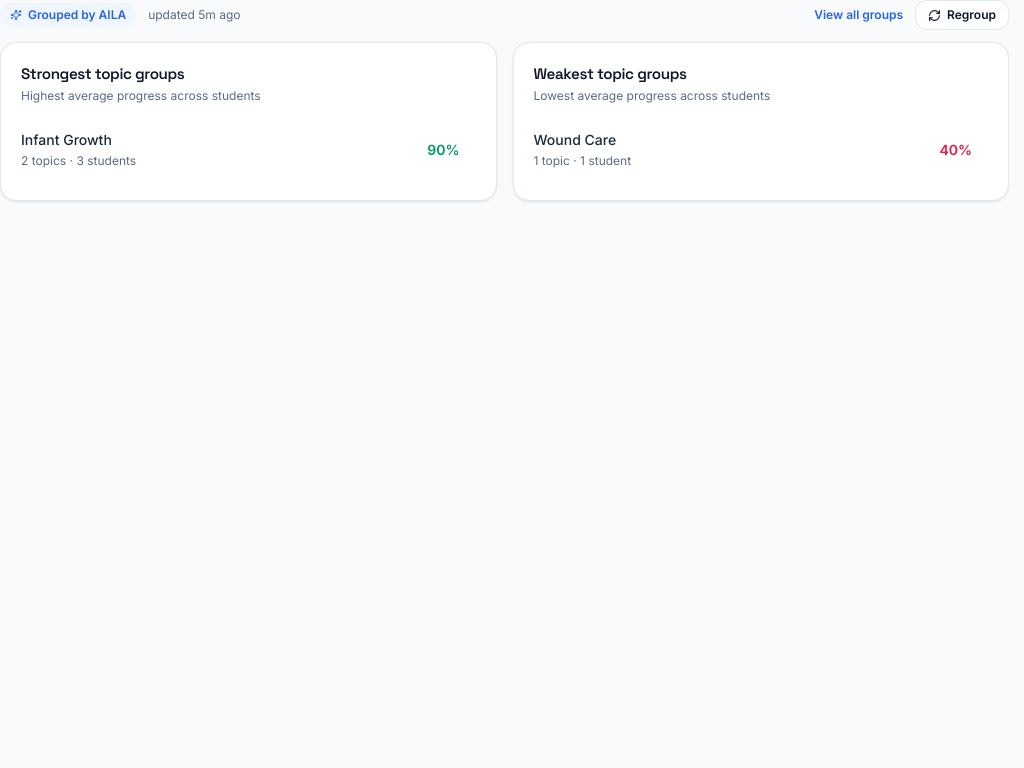
it: TopicGroupsSection › clicking a group opens its detail dialog with all its topics
Click the text "Infant Growth".
click(66, 139)  # box [21, 131, 112, 148]
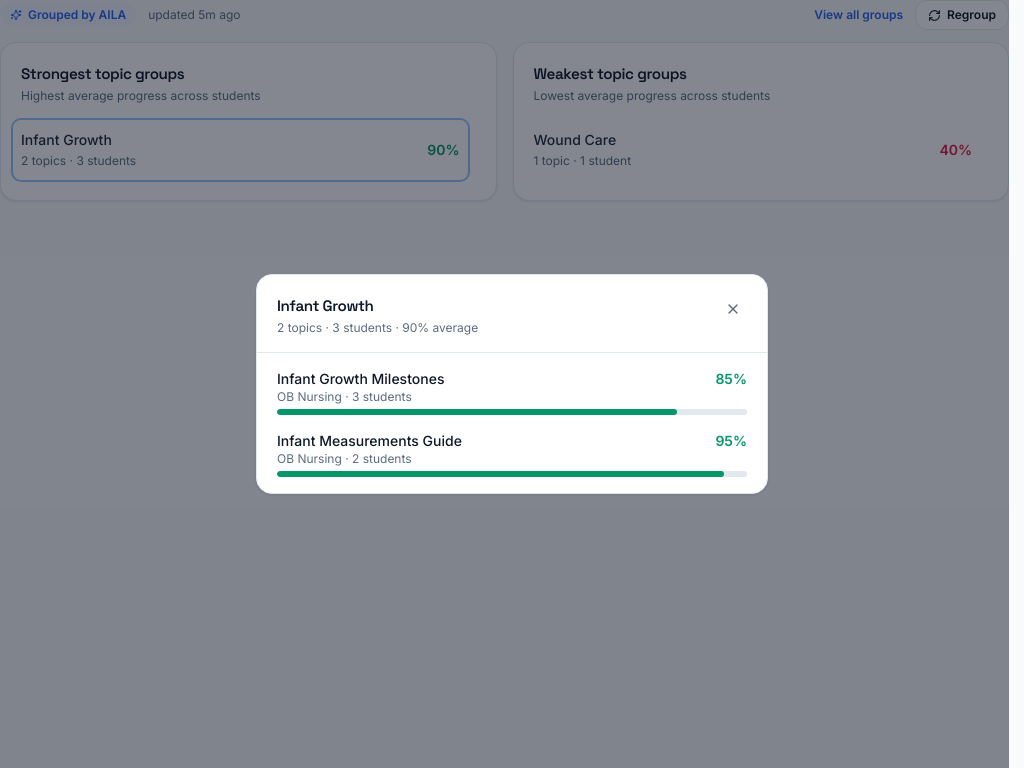
expect the dialog is shown: met
expect the text "Infant Growth Milestones" is shown: met, box [277, 369, 444, 389]
expect the text "Infant Measurements Guide" is shown: met, box [277, 431, 462, 451]
